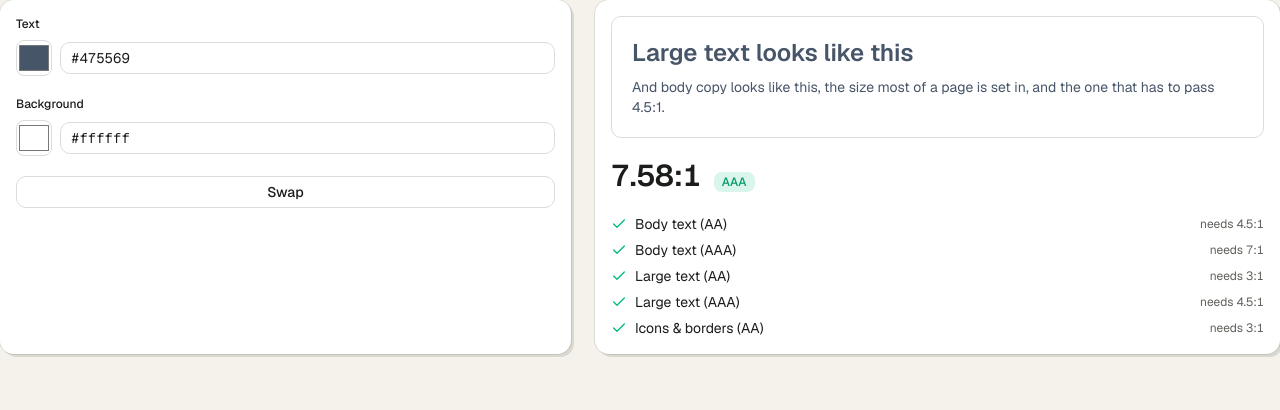
Test case: ContrastCheckerTool › explains itself when the text is translucent
Step 1. Clear the field labelled "Text" → (307, 58), box [60,42,555,74]
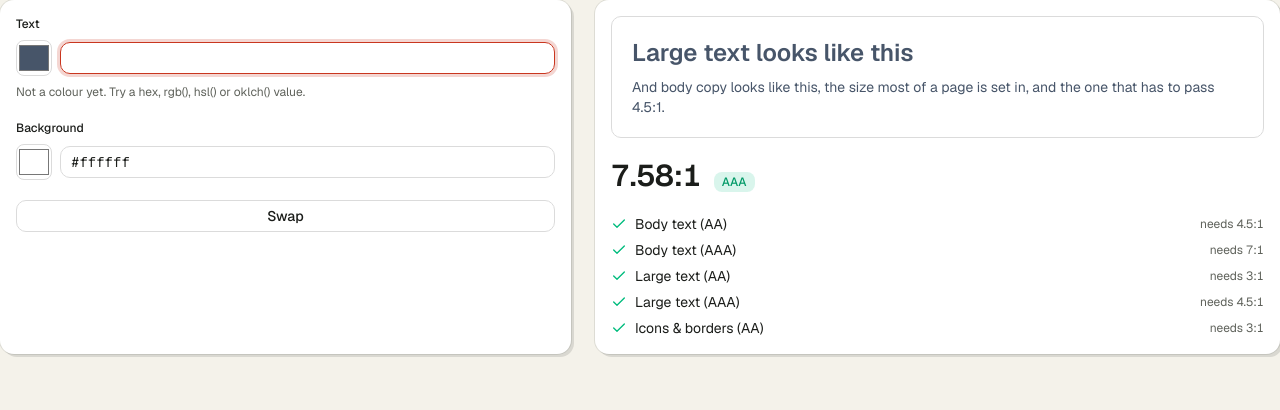
Step 2. Type keys "#00000080"
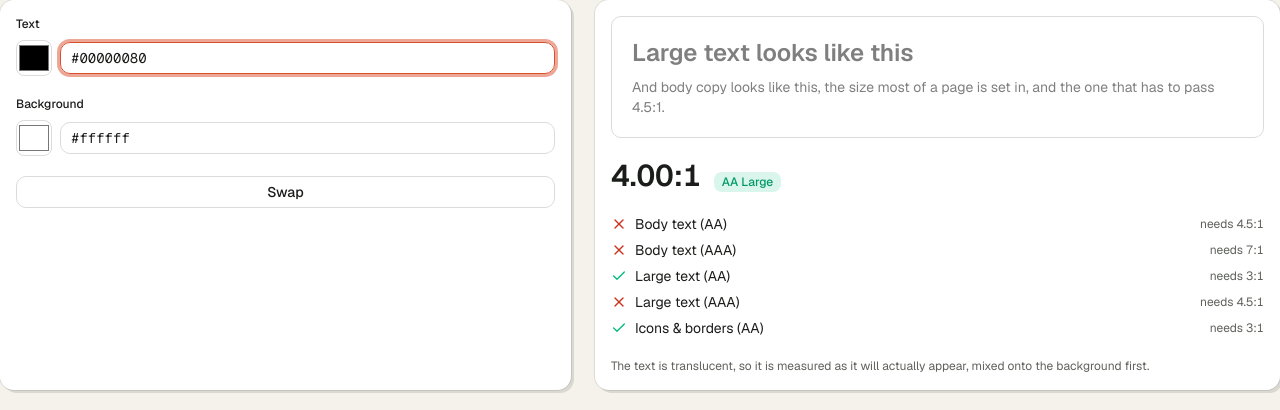
Expected: the text "mixed onto the background first" is shown, [611,358,1149,374]
